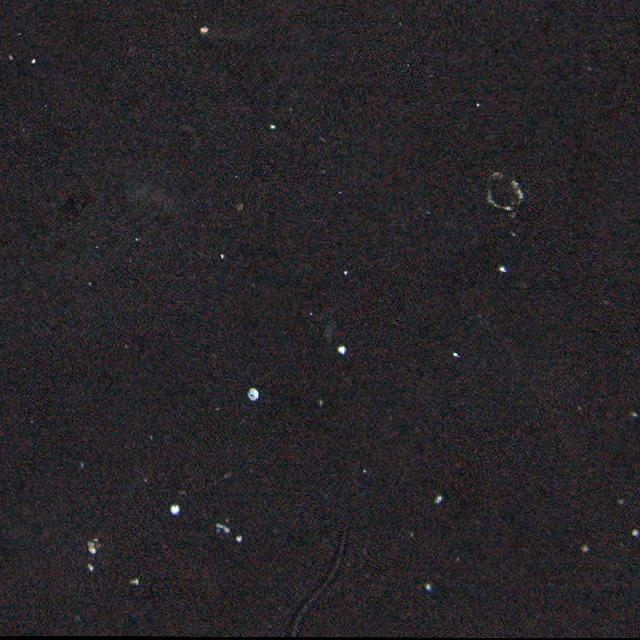eel: (285, 534, 367, 636)
